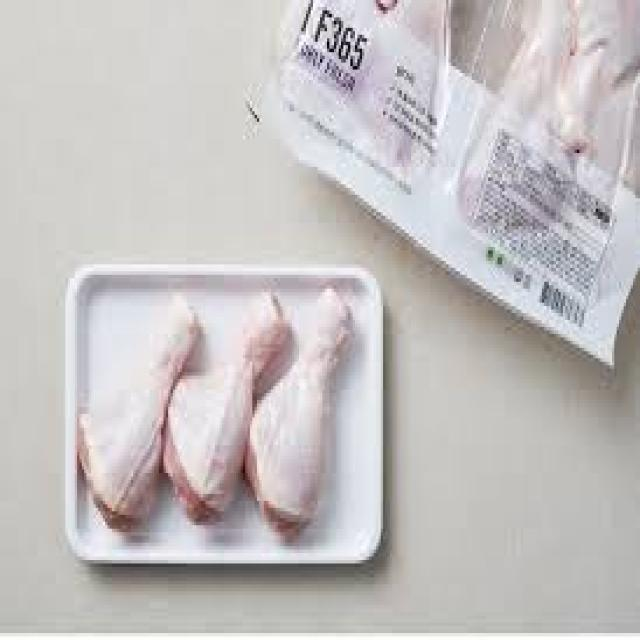chicken: (73, 295, 204, 523), (164, 295, 284, 529), (250, 292, 350, 550)
